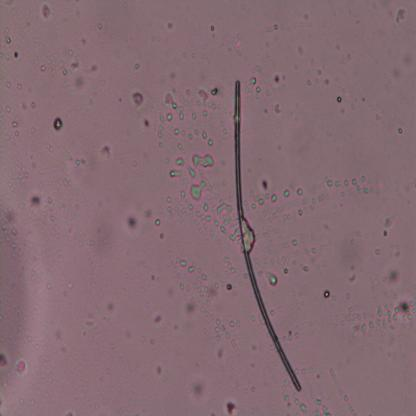Background material: (0, 206, 29, 395), (188, 270, 238, 348), (165, 191, 236, 241), (358, 296, 416, 334), (330, 368, 358, 416), (284, 391, 334, 416), (52, 40, 81, 80), (274, 252, 318, 275), (326, 175, 376, 193), (246, 189, 280, 211), (296, 193, 325, 217), (189, 378, 208, 405), (307, 66, 327, 87), (192, 152, 215, 170), (125, 209, 141, 234), (191, 177, 205, 204), (198, 84, 219, 102), (389, 62, 404, 87), (83, 304, 94, 336), (248, 78, 263, 101), (8, 119, 21, 144), (184, 297, 199, 318), (163, 88, 178, 108), (263, 269, 278, 288), (279, 329, 299, 343), (216, 200, 233, 216), (74, 74, 88, 93), (234, 33, 246, 54), (163, 14, 177, 32), (259, 177, 273, 195), (386, 270, 400, 288), (16, 356, 28, 376), (52, 325, 65, 343), (381, 216, 392, 237), (180, 260, 196, 274), (132, 90, 144, 107), (52, 115, 64, 132), (169, 166, 183, 179), (225, 401, 238, 415), (88, 59, 100, 74), (159, 112, 174, 124), (202, 130, 214, 145), (395, 8, 407, 23), (129, 55, 140, 71), (100, 144, 111, 160), (31, 192, 42, 208), (152, 312, 164, 326), (141, 117, 152, 131), (206, 19, 216, 34), (250, 62, 262, 74), (272, 73, 282, 86), (154, 364, 164, 377), (42, 8, 52, 21), (30, 97, 38, 113), (274, 102, 283, 116), (107, 298, 114, 314), (216, 347, 226, 358), (350, 264, 356, 282), (374, 245, 382, 258), (341, 53, 351, 63), (128, 158, 139, 167), (283, 189, 292, 200), (323, 286, 330, 300), (4, 102, 12, 113), (178, 110, 186, 121), (169, 72, 177, 81), (202, 109, 210, 118), (13, 50, 20, 60), (5, 78, 11, 89), (397, 124, 403, 135), (336, 95, 342, 106), (154, 217, 160, 228), (5, 38, 13, 46), (40, 64, 47, 73), (177, 157, 186, 164), (173, 127, 180, 136), (292, 238, 298, 248), (74, 158, 80, 167), (16, 82, 22, 91), (273, 21, 278, 31), (298, 188, 302, 196), (51, 215, 56, 221)
Microfibre: (232, 78, 302, 392)
